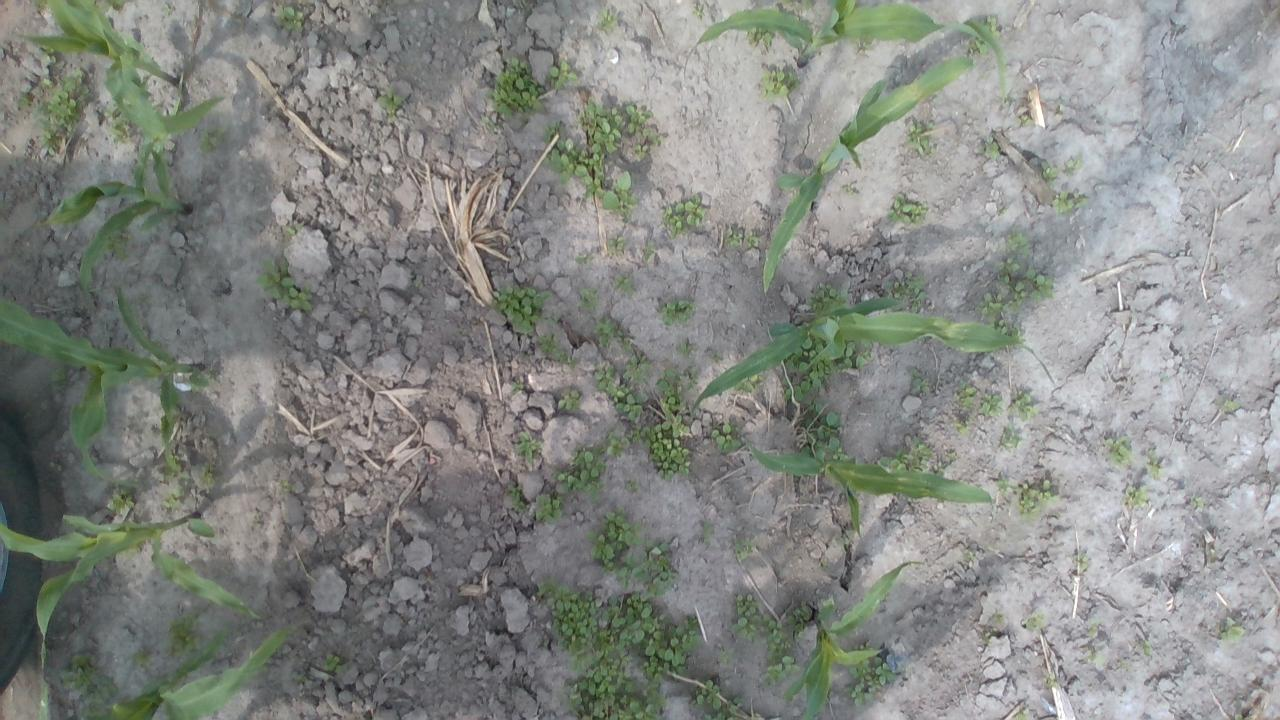Maize: (0, 514, 258, 720), (759, 55, 971, 292), (692, 294, 1055, 412), (0, 295, 213, 481), (692, 0, 1010, 100), (18, 0, 224, 139), (740, 432, 996, 543), (46, 137, 192, 311), (777, 555, 928, 720), (82, 622, 310, 720)
Weeds: (564, 653, 667, 720), (537, 580, 603, 672), (582, 508, 642, 587), (629, 412, 695, 482), (636, 614, 702, 680), (483, 54, 545, 122), (33, 68, 90, 138), (61, 651, 118, 720), (540, 138, 606, 197), (602, 592, 664, 652), (491, 282, 552, 337), (256, 253, 312, 310), (554, 444, 605, 502), (632, 536, 680, 596), (594, 364, 644, 421), (779, 330, 838, 376), (575, 96, 622, 152), (842, 656, 894, 706), (800, 412, 852, 460), (878, 434, 934, 474), (662, 192, 707, 239), (1011, 479, 1060, 522), (602, 171, 638, 220), (163, 609, 203, 653), (658, 367, 698, 410), (728, 592, 761, 644), (588, 314, 632, 351), (760, 612, 792, 662), (892, 272, 928, 312), (538, 332, 578, 368), (758, 68, 802, 100), (888, 193, 928, 227), (839, 338, 874, 373), (781, 376, 828, 402), (807, 284, 848, 312), (972, 292, 1003, 329), (906, 121, 938, 156), (105, 104, 134, 142), (531, 490, 563, 524), (764, 656, 800, 685), (1024, 268, 1056, 300), (1005, 389, 1038, 420), (712, 422, 745, 453), (546, 60, 578, 91), (701, 697, 744, 720), (661, 299, 696, 326), (1103, 436, 1134, 466), (100, 228, 130, 258), (622, 354, 652, 384), (108, 483, 139, 512), (274, 4, 306, 32), (694, 678, 722, 710), (197, 127, 230, 154), (786, 601, 811, 636), (514, 432, 543, 462), (1050, 190, 1086, 214), (1002, 229, 1032, 256), (625, 103, 651, 134), (378, 86, 404, 117), (505, 483, 530, 514), (950, 380, 979, 406), (1004, 282, 1028, 313), (604, 429, 630, 457), (1218, 617, 1244, 644), (162, 453, 185, 483), (996, 318, 1024, 342), (732, 372, 764, 393), (998, 424, 1023, 450), (996, 258, 1020, 285), (162, 486, 186, 512), (731, 538, 757, 562), (1144, 448, 1164, 479), (934, 452, 958, 477), (746, 24, 773, 46), (908, 368, 930, 395), (979, 13, 1002, 38), (976, 136, 1000, 159), (322, 652, 347, 674), (1123, 485, 1149, 506), (49, 364, 70, 390), (579, 286, 600, 312), (978, 394, 1002, 416), (966, 34, 990, 56), (614, 272, 636, 296), (556, 391, 580, 412), (596, 10, 620, 30), (1082, 644, 1106, 664), (716, 644, 736, 666), (1024, 612, 1046, 632), (541, 118, 559, 142), (606, 234, 626, 255), (116, 542, 143, 557), (1040, 160, 1056, 185), (644, 128, 664, 148), (36, 44, 57, 63), (37, 136, 56, 157), (130, 650, 152, 668), (96, 0, 129, 12), (834, 530, 856, 548), (724, 228, 743, 247), (282, 220, 303, 236), (1064, 158, 1086, 173), (1218, 396, 1240, 411), (702, 520, 715, 545), (854, 36, 874, 52), (840, 182, 859, 198), (1188, 492, 1206, 508), (1073, 553, 1089, 571), (808, 396, 824, 413), (676, 342, 695, 356), (690, 4, 706, 20), (954, 417, 970, 433), (632, 144, 649, 159), (996, 474, 1009, 493), (744, 230, 759, 246), (547, 309, 563, 324), (625, 476, 639, 493), (16, 95, 32, 109), (961, 548, 977, 562), (1042, 674, 1057, 688), (48, 459, 64, 472), (1088, 618, 1099, 636), (482, 118, 496, 132), (1016, 114, 1032, 126), (200, 463, 212, 479), (644, 240, 654, 258), (800, 0, 816, 11), (574, 254, 596, 262), (279, 480, 296, 490), (1016, 708, 1030, 720), (710, 351, 726, 361), (858, 642, 873, 652), (189, 384, 205, 393), (1142, 642, 1154, 654), (295, 674, 308, 684), (511, 380, 524, 390), (32, 0, 48, 8), (996, 612, 1005, 624), (998, 205, 1007, 216), (983, 634, 991, 644), (780, 0, 794, 4), (412, 279, 419, 287), (1234, 714, 1242, 720)
